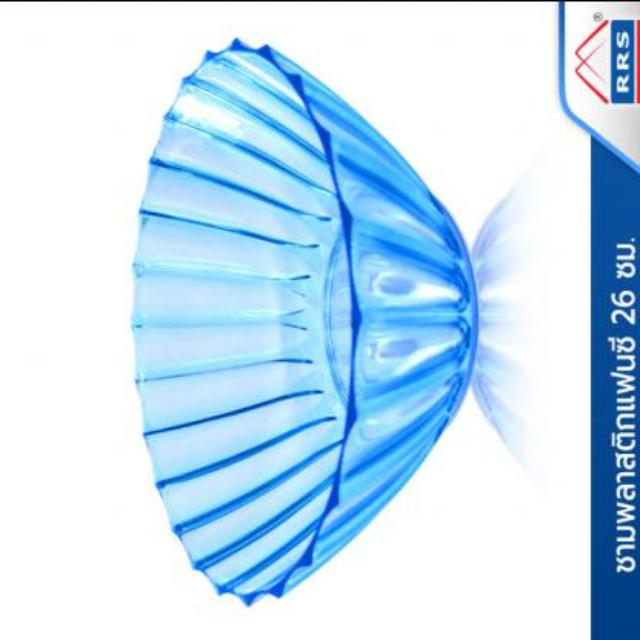plastic_box: (127, 41, 483, 604)
